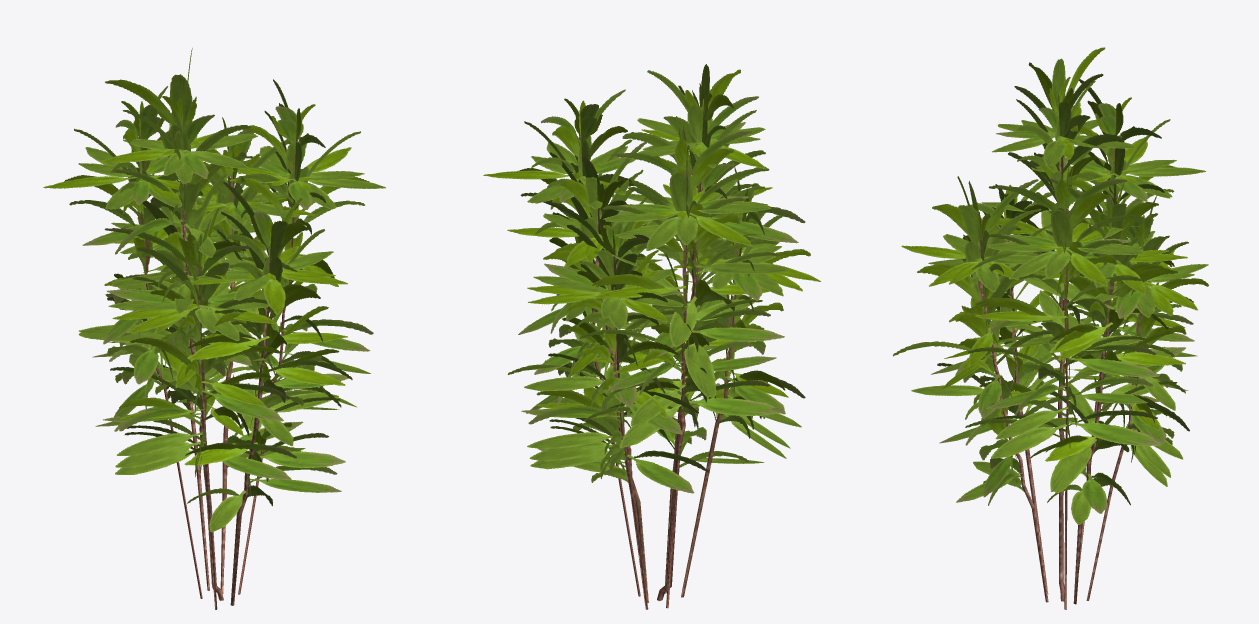
Rendered from CordylinePetiolaris.glb.
3 views of the same model, side by side, from view 1: azimuth 30°, elevation 25°; view 2: azimuth 150°, elevation 25°; view 3: azimuth 270°, elevation 25° (orthographic). The views are drawn at different scales.
Visible parts, largest first — view 1: Palm_Lily__Realistic_LOD3; view 2: Palm_Lily__Realistic_LOD3; view 3: Palm_Lily__Realistic_LOD3.
Boxes of the visible parts, x1=… form: Palm_Lily__Realistic_LOD3: x1=43, y1=48, x2=385, y2=609; Palm_Lily__Realistic_LOD3: x1=483, y1=64, x2=820, y2=609; Palm_Lily__Realistic_LOD3: x1=893, y1=47, x2=1208, y2=609.
Size of the model in its own units: 2.53 by 3.99 by 2.47.
Materials: 1 (1 with a texture image).
